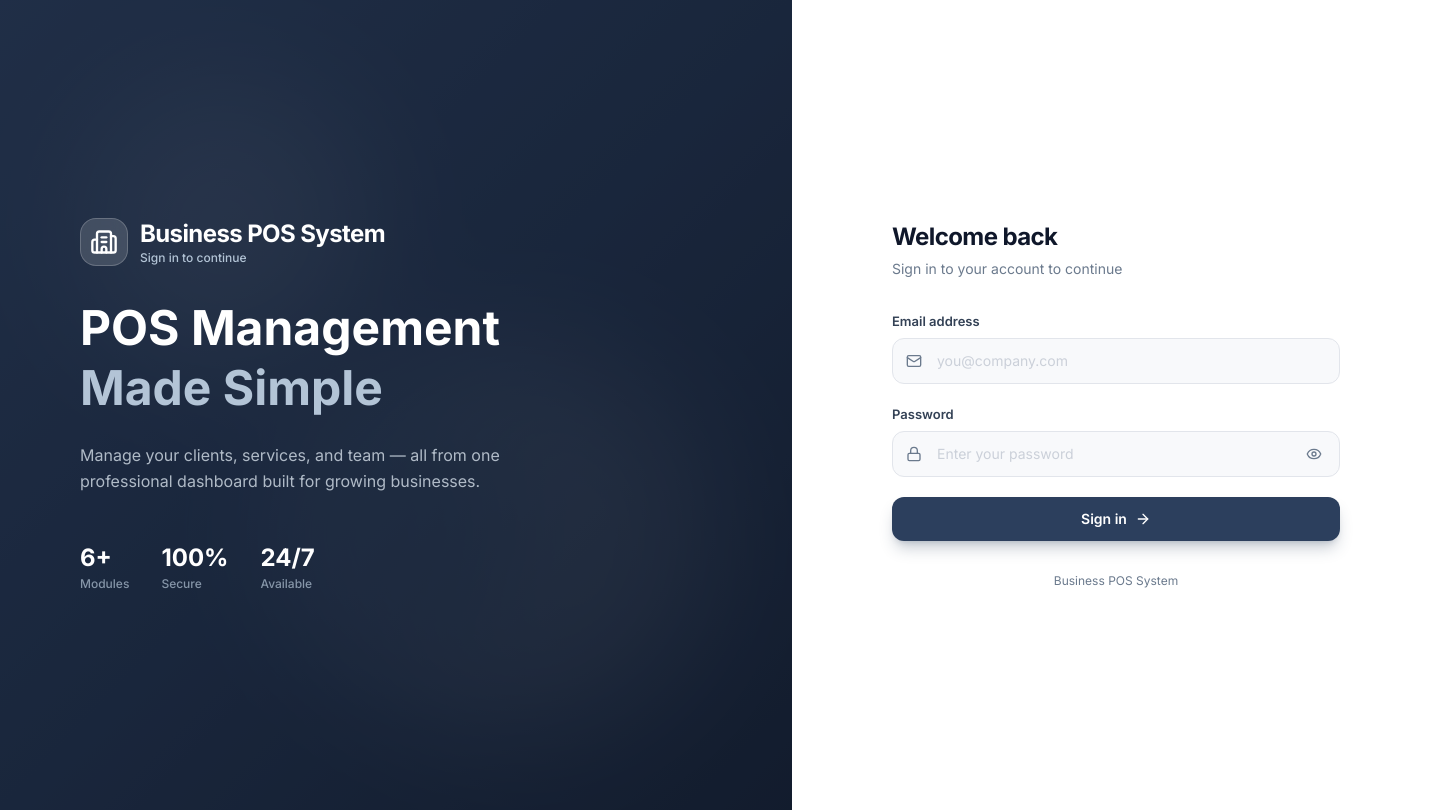
Test: LoginPage › shows email format error
Type "bad-email" into the field labelled "Email address" at (1116,361), box 892,338 -> 1340,384
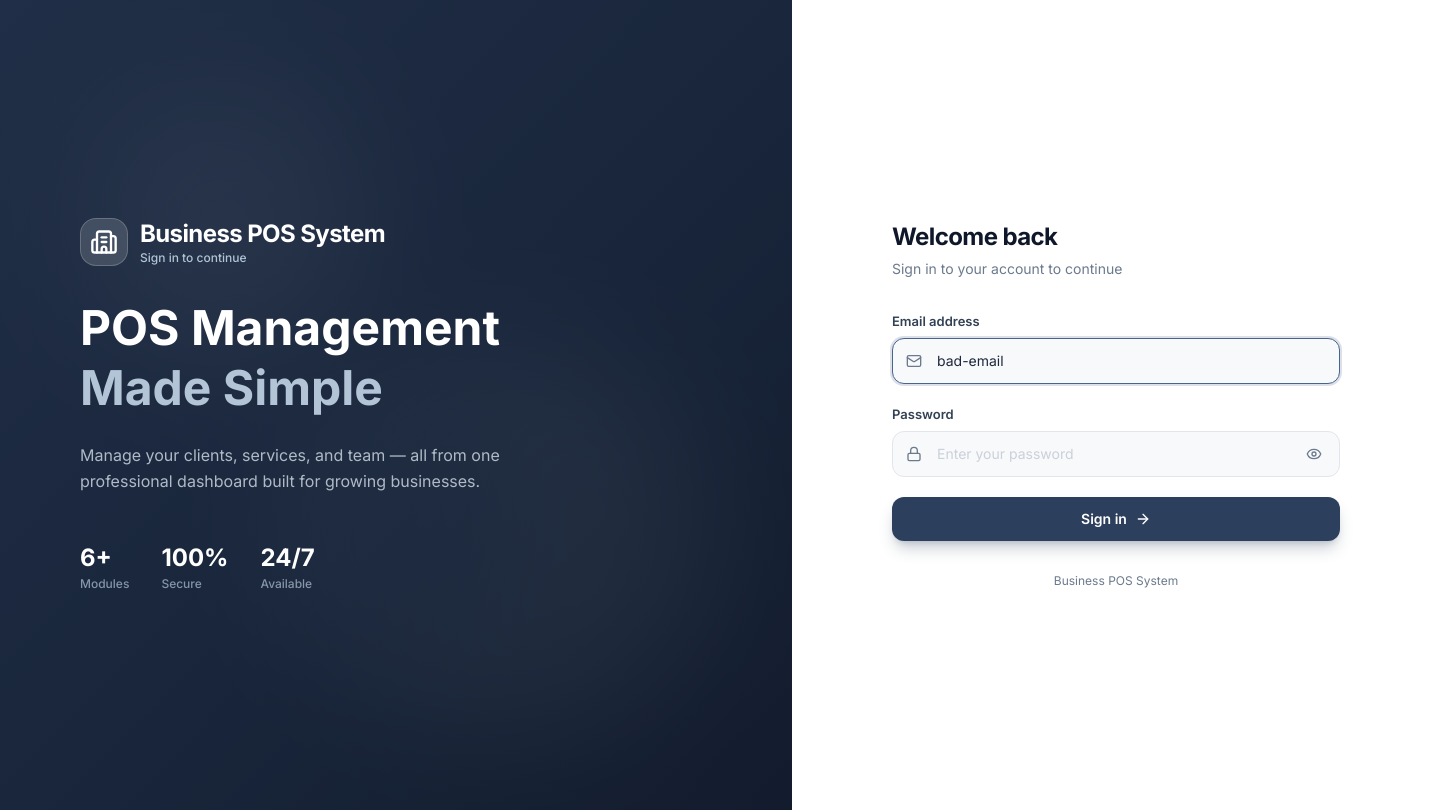
Submit the form "Email address Password Sign in", box 892,311 -> 1340,541
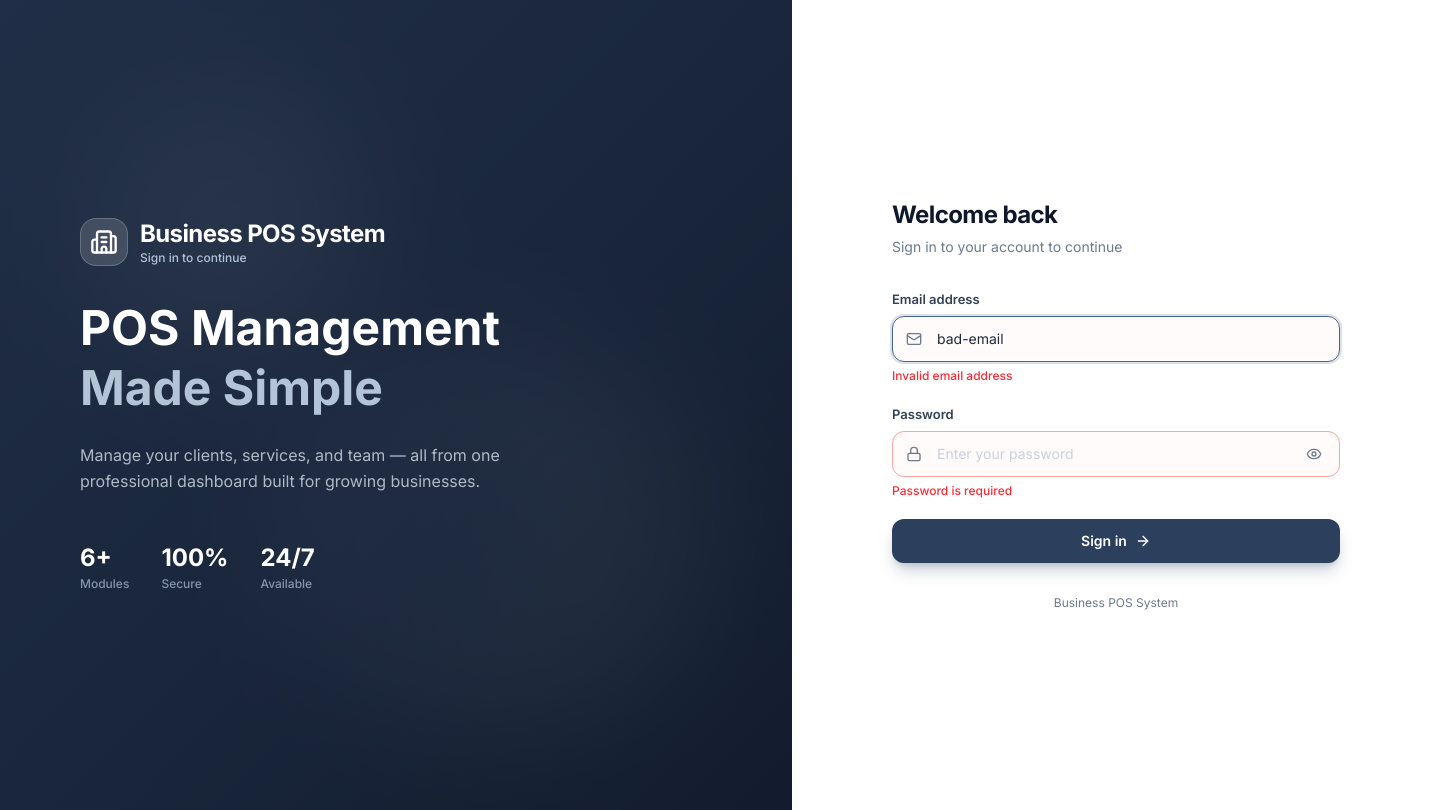
Expected: the text "Invalid email address" is shown, 892,368 -> 1012,383
